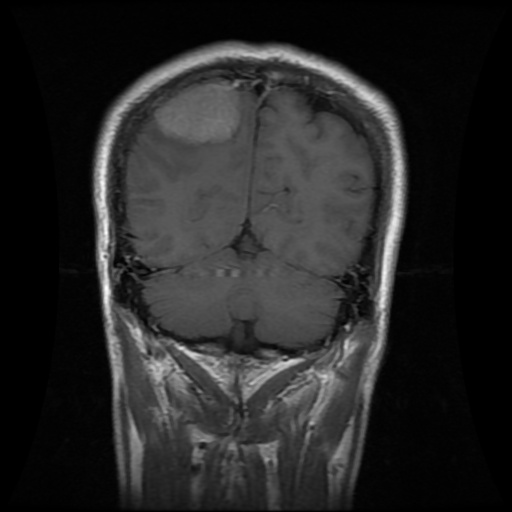meningioma: (154, 79, 245, 142)
